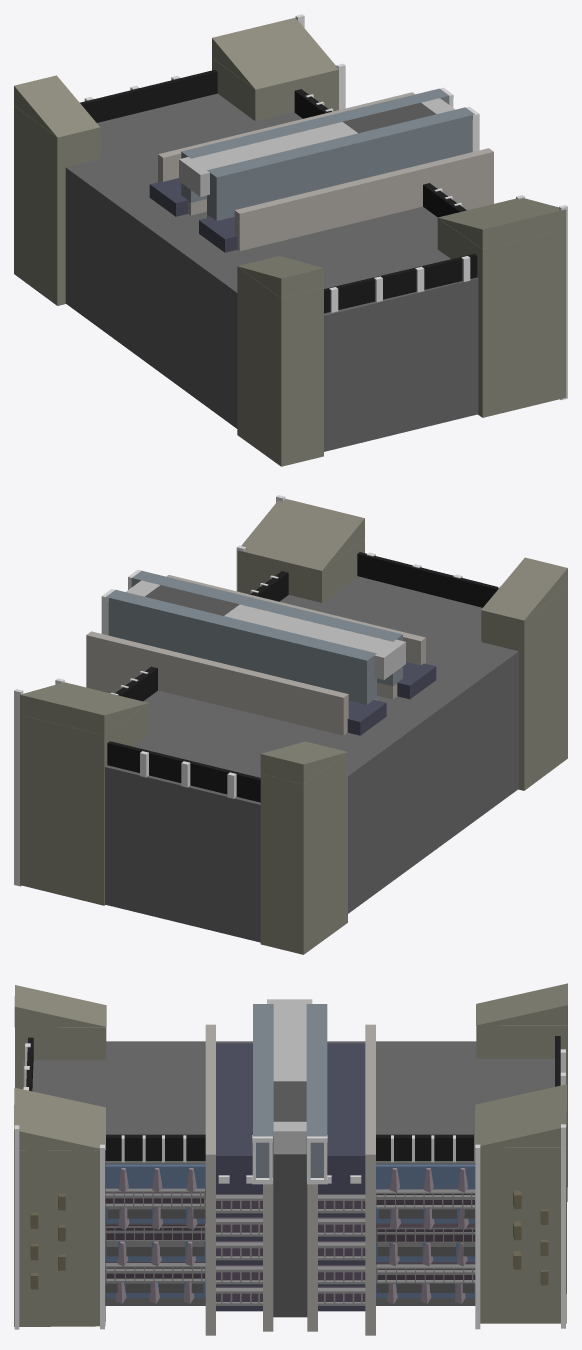
3 renders of one model, top to bottom at view 1: azimuth 30°, elevation 25°; view 2: azimuth 150°, elevation 25°; view 3: azimuth 270°, elevation 25°, orthographic. The views are drawn at different scales.
Visible parts, largest first — view 1: Cube, Cube.042, Cube.044, Cube.002, Cube.036, Cube.009, Cube.041, Cube.043, Cube.040, Cube.019, Cube.035, Cube.025 (+8 smaller); view 2: Cube, Cube.040, Cube.009, Cube.002, Cube.011, Cube.044, Cube.043, Cube.041, Cube.042, Cube.019, Cube.025, Cube.035 (+9 smaller); view 3: Cube, Cube.042, Cube.040, Cube.001, Cube.002, Cube.020, Cube.021, Cube.012, Cube.006, Cube.004, Cube.018, Cube.041 (+19 smaller).
Boxes of the visible parts, x1,y1,x2,y2 form: Cube: (65, 93, 478, 451); Cube.042: (437, 218, 566, 417); Cube.044: (237, 267, 323, 466); Cube.002: (158, 92, 493, 251); Cube.036: (207, 107, 474, 220); Cube.009: (14, 105, 100, 305); Cube.041: (212, 17, 338, 89); Cube.043: (438, 198, 566, 249); Cube.040: (212, 58, 338, 121); Cube.019: (179, 98, 454, 196); Cube.035: (80, 70, 217, 122); Cube.025: (324, 253, 477, 313); Cube: (105, 576, 518, 942); Cube.040: (20, 703, 148, 905); Cube.009: (260, 752, 347, 954); Cube.002: (86, 575, 425, 735); Cube.011: (106, 590, 376, 704); Cube.044: (481, 588, 567, 790); Cube.043: (238, 498, 364, 570); Cube.041: (20, 682, 148, 735); Cube.042: (237, 538, 364, 602); Cube.019: (126, 580, 405, 679); Cube.025: (357, 552, 498, 607); Cube.035: (107, 741, 260, 802); Cube: (23, 1041, 554, 1305); Cube.042: (14, 1150, 105, 1326); Cube.040: (480, 1132, 566, 1323); Cube.001: (216, 1043, 365, 1311); Cube.002: (205, 1024, 375, 1335); Cube.020: (105, 1188, 475, 1283); Cube.021: (105, 1164, 475, 1298); Cube.012: (273, 1081, 307, 1317); Cube.006: (216, 1195, 365, 1305); Cube.004: (105, 1204, 475, 1292); Cube.018: (105, 1189, 475, 1279); Cube.041: (475, 1084, 566, 1147).
Bounding box in the file's own units: 9254 × 5507 × 13476.
